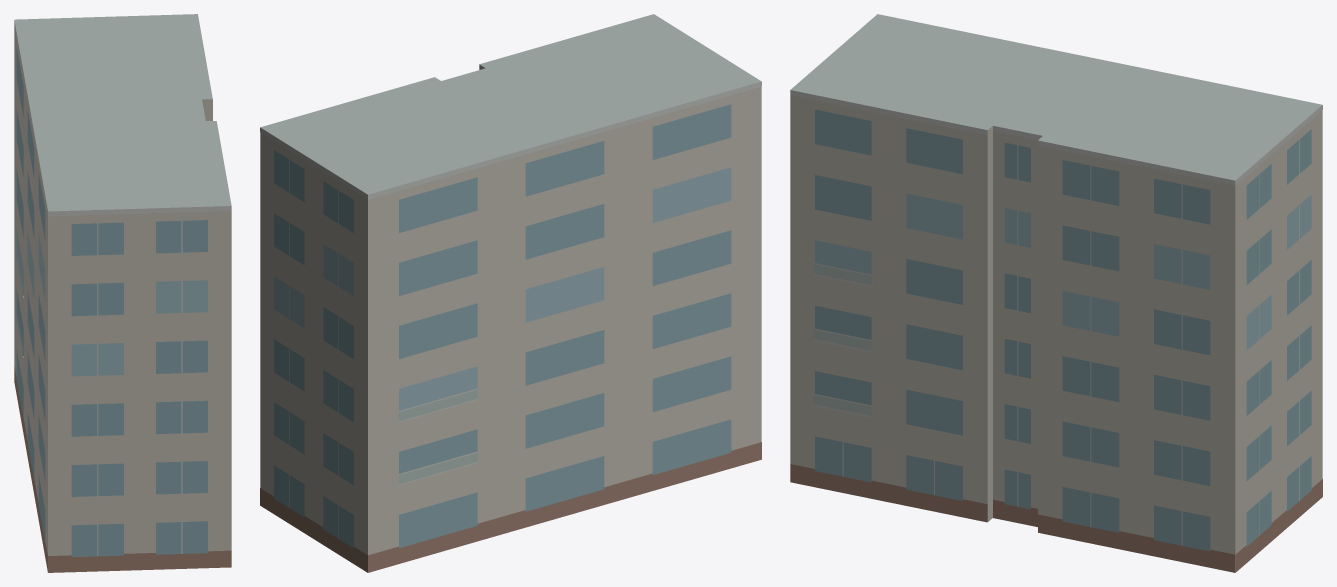
File: survey-upis-32550687.glb
3 renders of one model, left to right at view 1: azimuth 30°, elevation 25°; view 2: azimuth 150°, elevation 25°; view 3: azimuth 270°, elevation 25°, orthographic. The views are drawn at different scales.
Visible parts, largest first — view 1: survey-upis-32550687.tmp; view 2: survey-upis-32550687.tmp; view 3: survey-upis-32550687.tmp.
Boxes of the visible parts, x1,y1,x2,y2 form: survey-upis-32550687.tmp: (14,14,231,572); survey-upis-32550687.tmp: (260,14,761,572); survey-upis-32550687.tmp: (790,14,1322,572).
Size of the model in its own units: 16.68 by 18.3 by 22.53.
